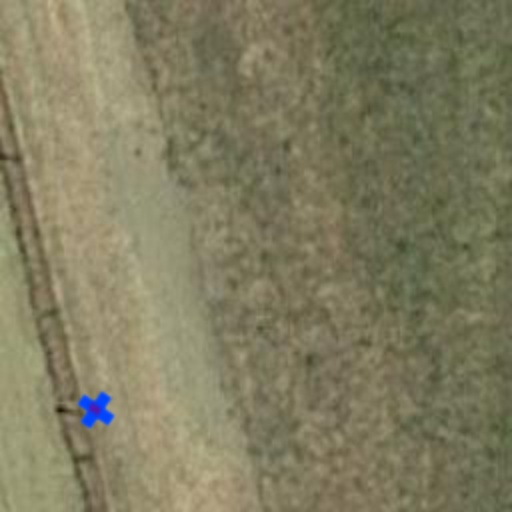cross: (68, 382, 124, 438)
